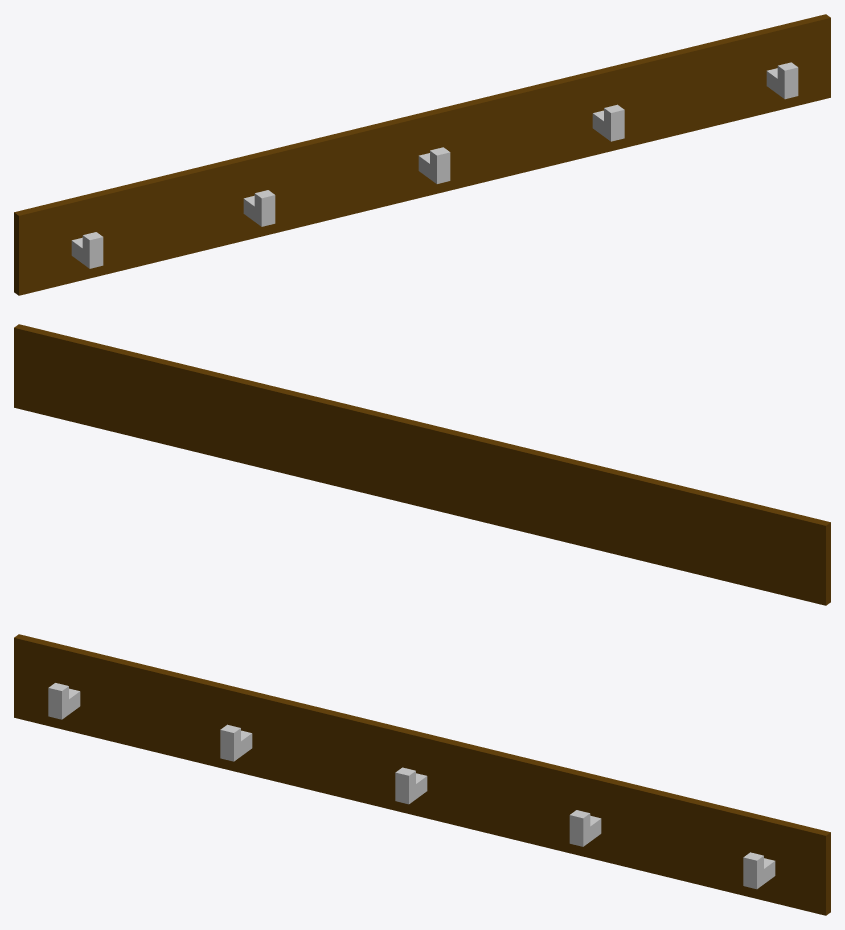
The model's file is H_Hanger.fbx.
3 views of the same model, one above another, from view 1: azimuth 30°, elevation 25°; view 2: azimuth 150°, elevation 25°; view 3: azimuth 330°, elevation 25° (orthographic).
Parts seen in each view (by area): view 1: H_Hanger; view 2: H_Hanger; view 3: H_Hanger.
Part boxes in pixels (<box>): H_Hanger: <box>14,14,830,295</box>; H_Hanger: <box>14,324,830,605</box>; H_Hanger: <box>14,634,830,915</box>.
Bounding box in the file's own units: 689 × 34.07 × 64.8.
